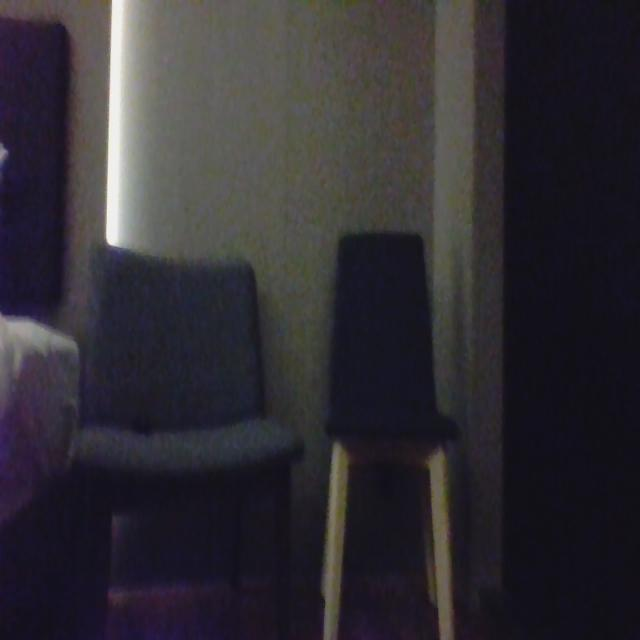empty: (81, 251, 302, 481), (322, 224, 439, 446)
